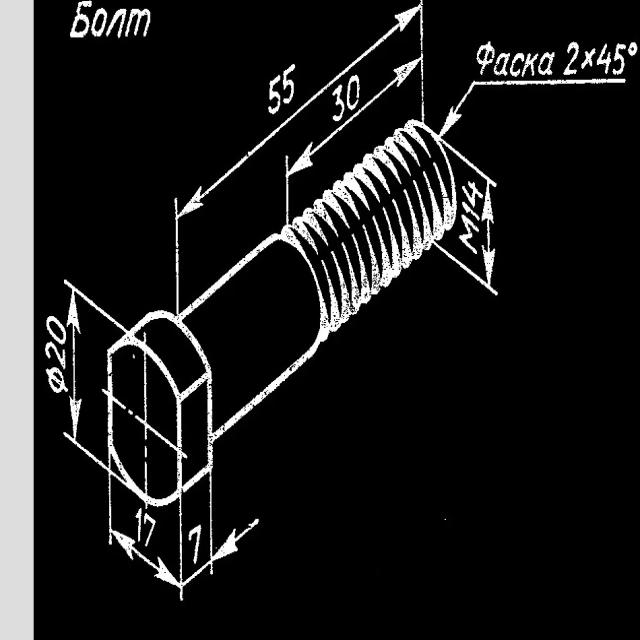marking_line: (59, 288, 84, 445), (480, 179, 493, 288)
numeric: (568, 40, 638, 78), (455, 178, 484, 256), (330, 76, 363, 127), (263, 68, 299, 113), (131, 506, 158, 548), (185, 518, 205, 570)
special_symbol: (43, 367, 70, 396)
